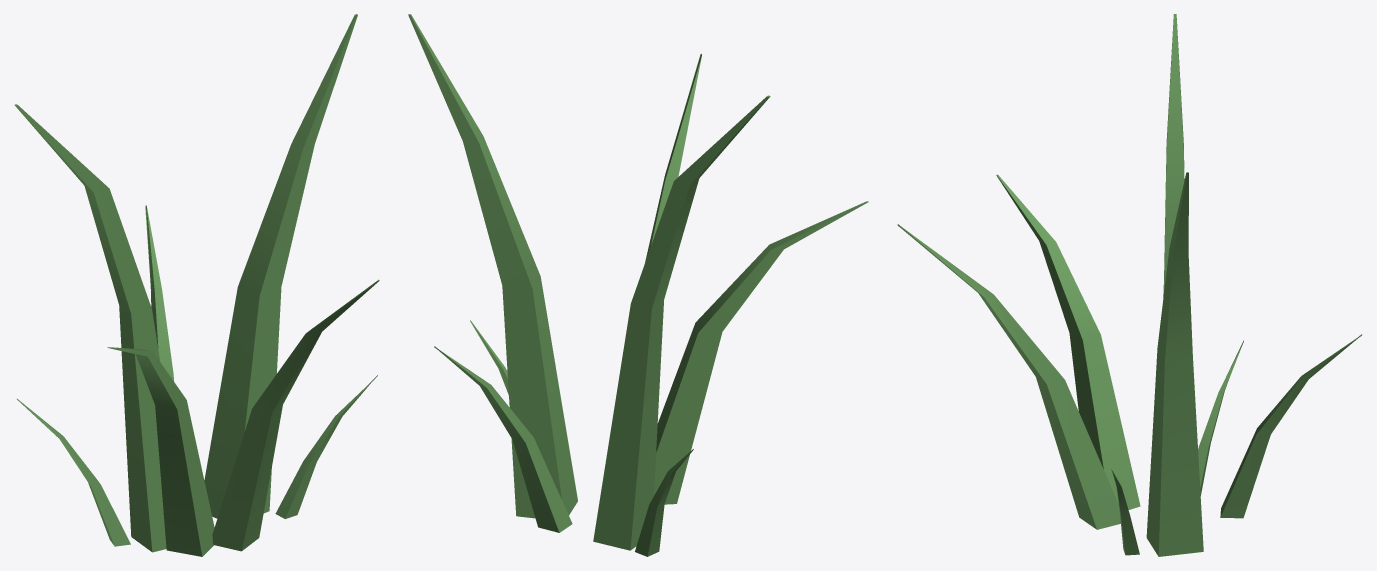
The model's file is Grass.fbx.
3 views of the same model, side by side, from view 1: azimuth 30°, elevation 25°; view 2: azimuth 150°, elevation 25°; view 3: azimuth 270°, elevation 25° (orthographic). The views are drawn at different scales.
Visible parts, largest first — view 1: pCube1_vtx_1_1; view 2: pCube1_vtx_1_1; view 3: pCube1_vtx_1_1.
Boxes of the visible parts, x1,y1,x2,y2 form: pCube1_vtx_1_1: (14, 14, 379, 556); pCube1_vtx_1_1: (408, 14, 868, 556); pCube1_vtx_1_1: (897, 14, 1362, 556).
Size of the model in its own units: 0.7741 by 0.99 by 0.9449.
